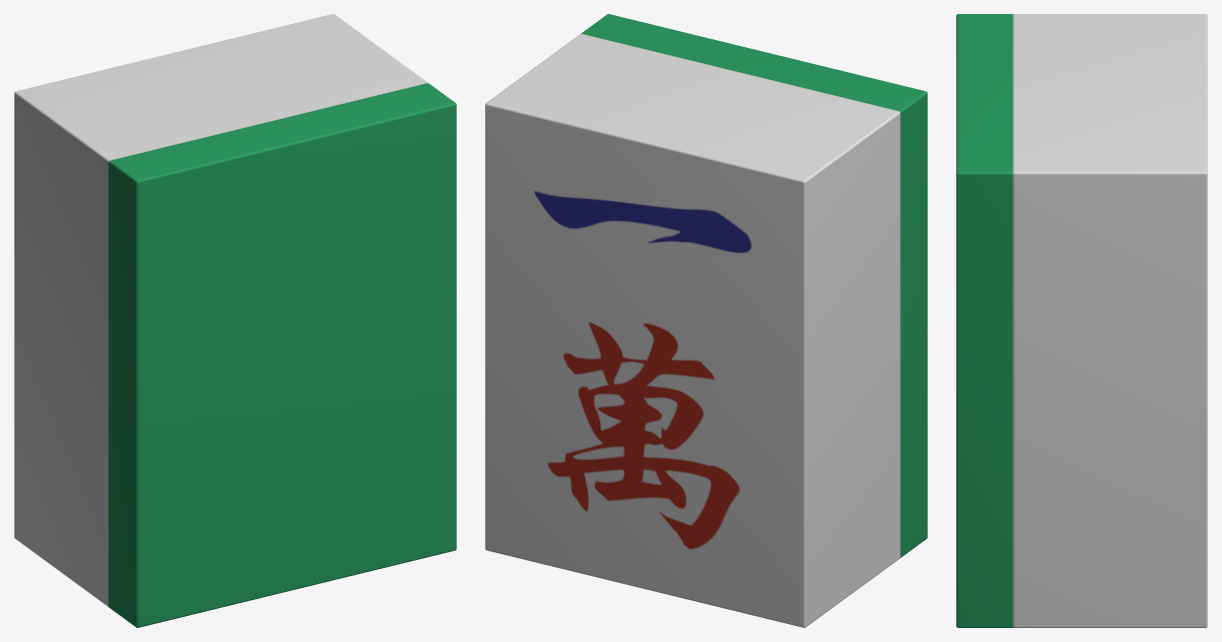
The model's file is Tile.fbx.
3 views of the same model, side by side, from view 1: azimuth 30°, elevation 25°; view 2: azimuth 150°, elevation 25°; view 3: azimuth 270°, elevation 25° (orthographic).
Visible parts, largest first — view 1: Tile; view 2: Tile; view 3: Tile.
Boxes of the visible parts, x1,y1,x2,y2 form: Tile: [14, 14, 456, 627]; Tile: [485, 14, 927, 627]; Tile: [956, 14, 1207, 627].
Size of the model in its own units: 30 by 40 by 20.
